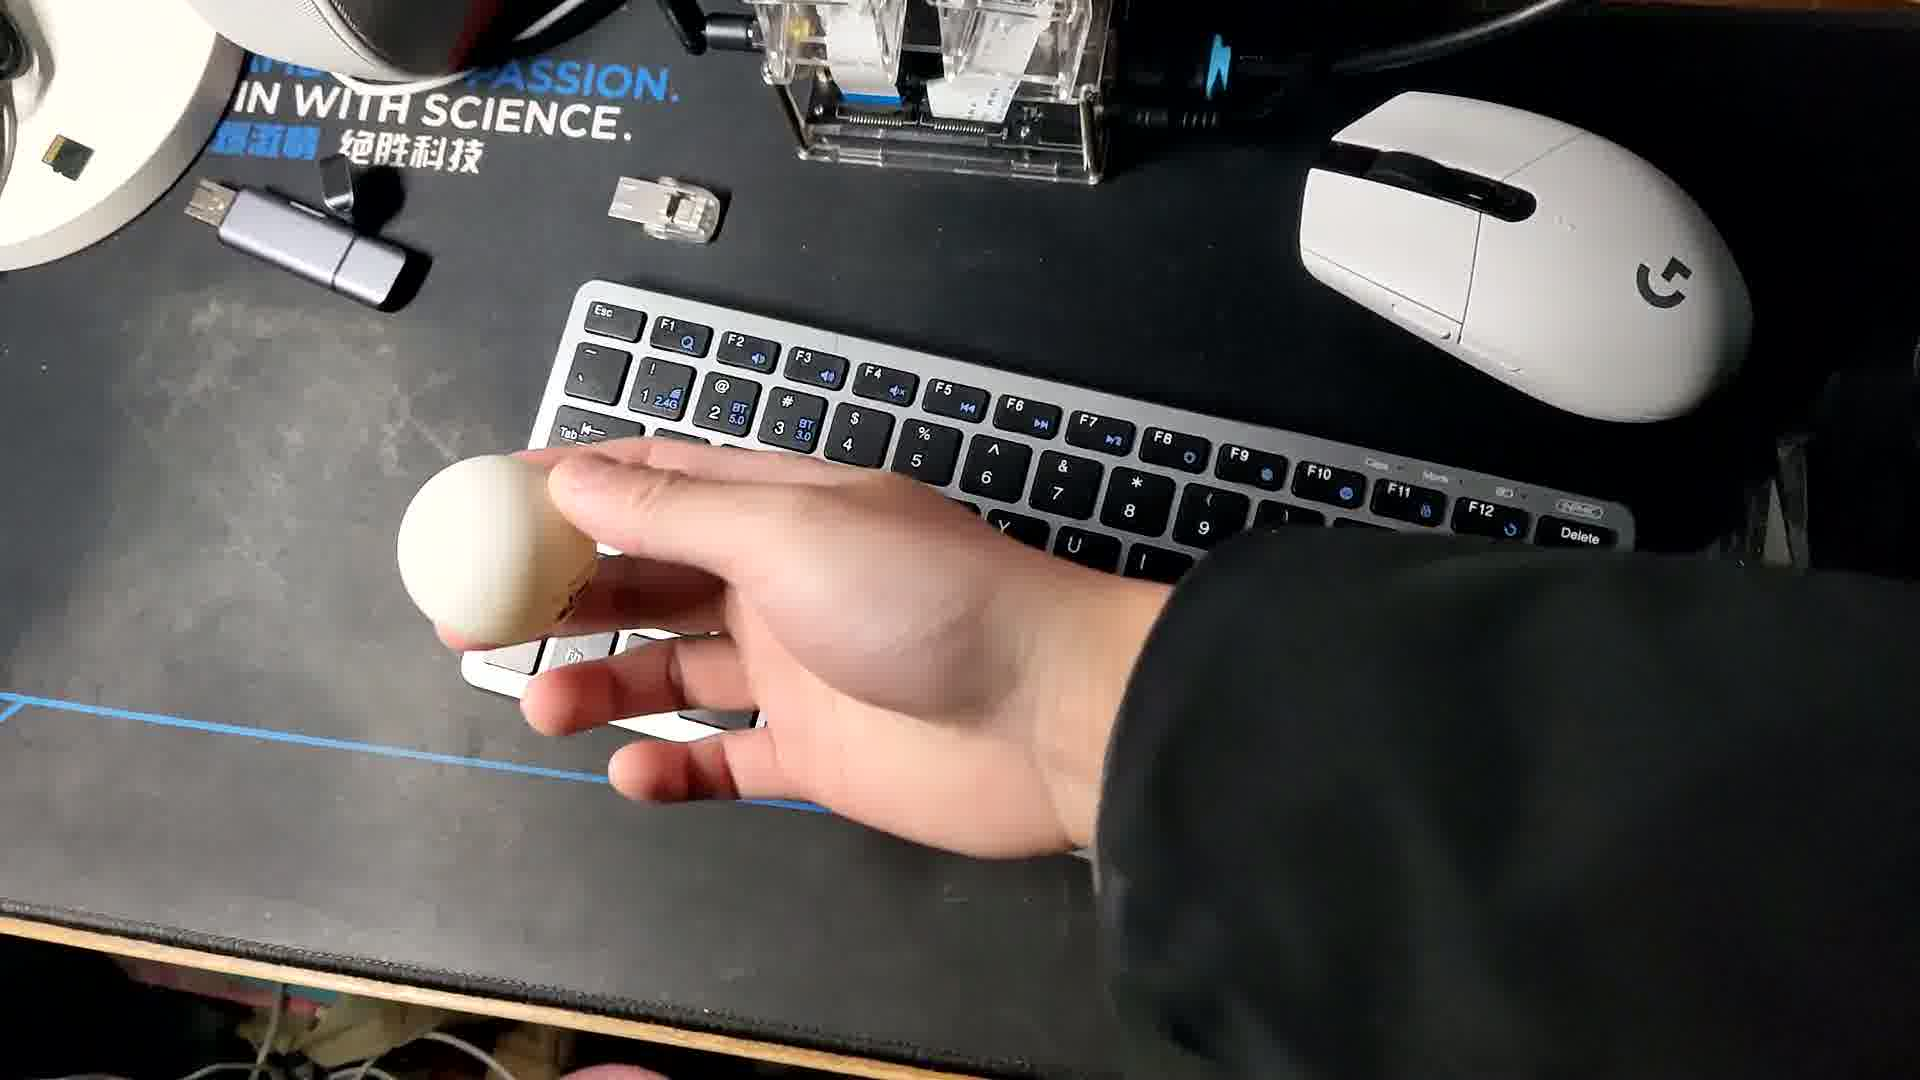Ball: (394, 455, 611, 644)
